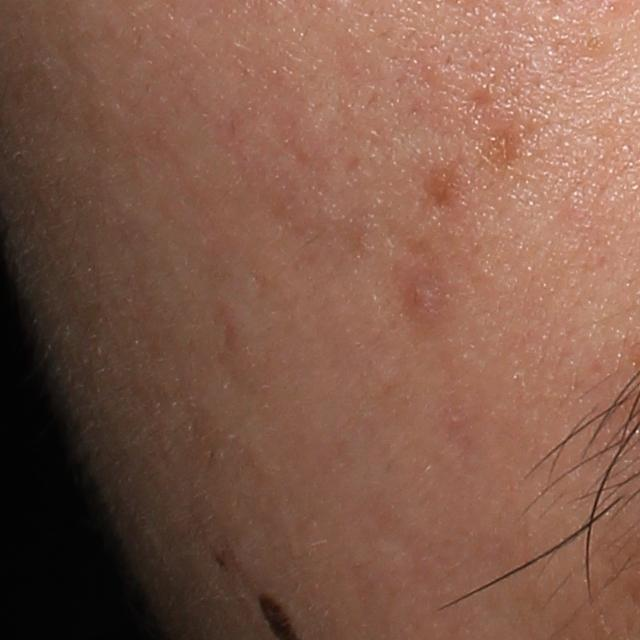atrophic_scar: (479, 124, 530, 163), (461, 88, 493, 118)
papule: (399, 273, 440, 317)
